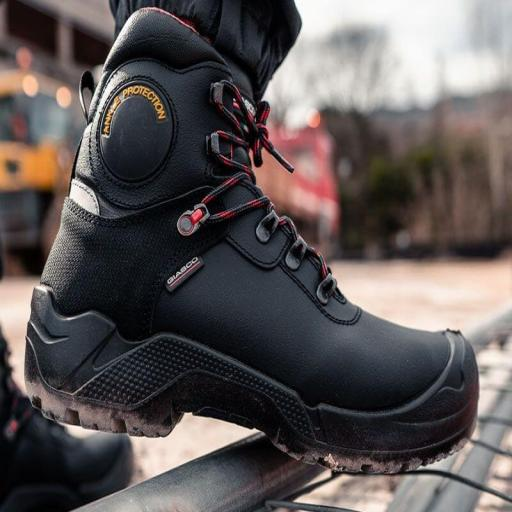safety_boots: (20, 111, 506, 478)
